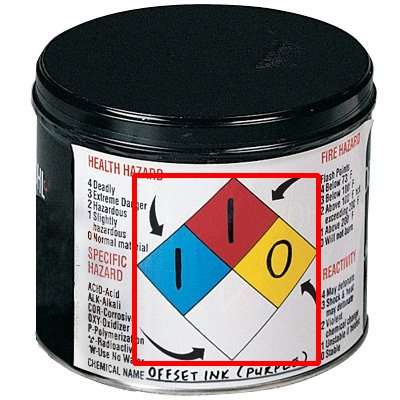nfpa: (134, 175, 318, 363)
